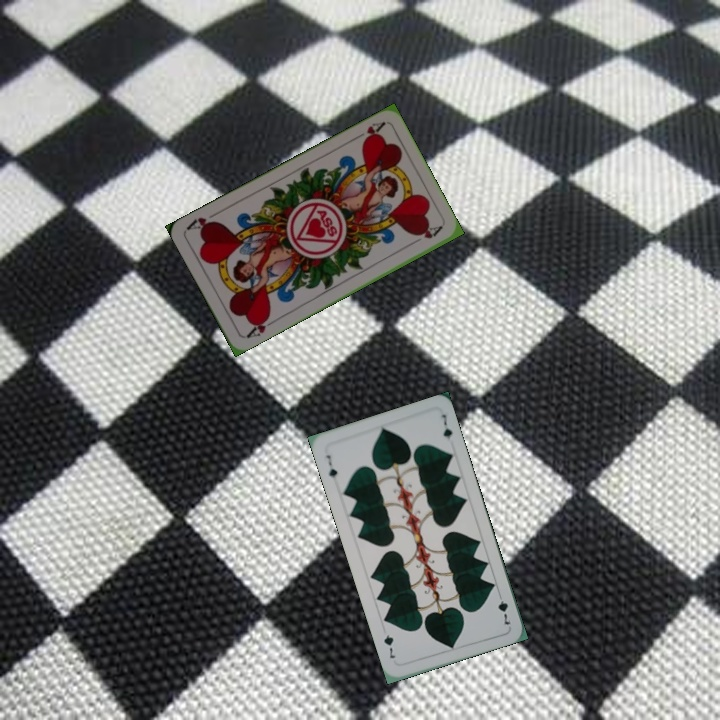G7: (494, 588, 513, 627), (322, 451, 340, 480)
HA: (242, 311, 279, 341), (349, 117, 387, 145)
